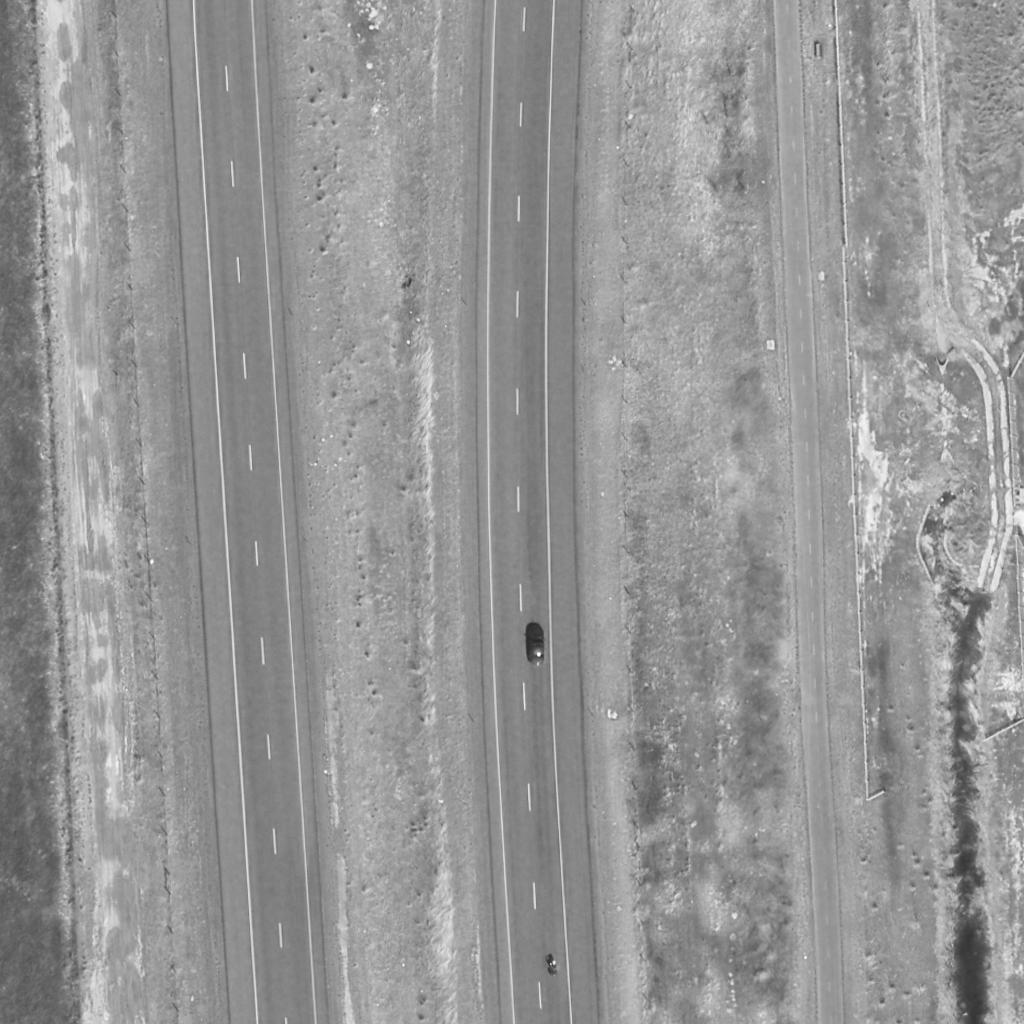vehicle: (526, 624, 544, 664), (545, 954, 559, 976)
